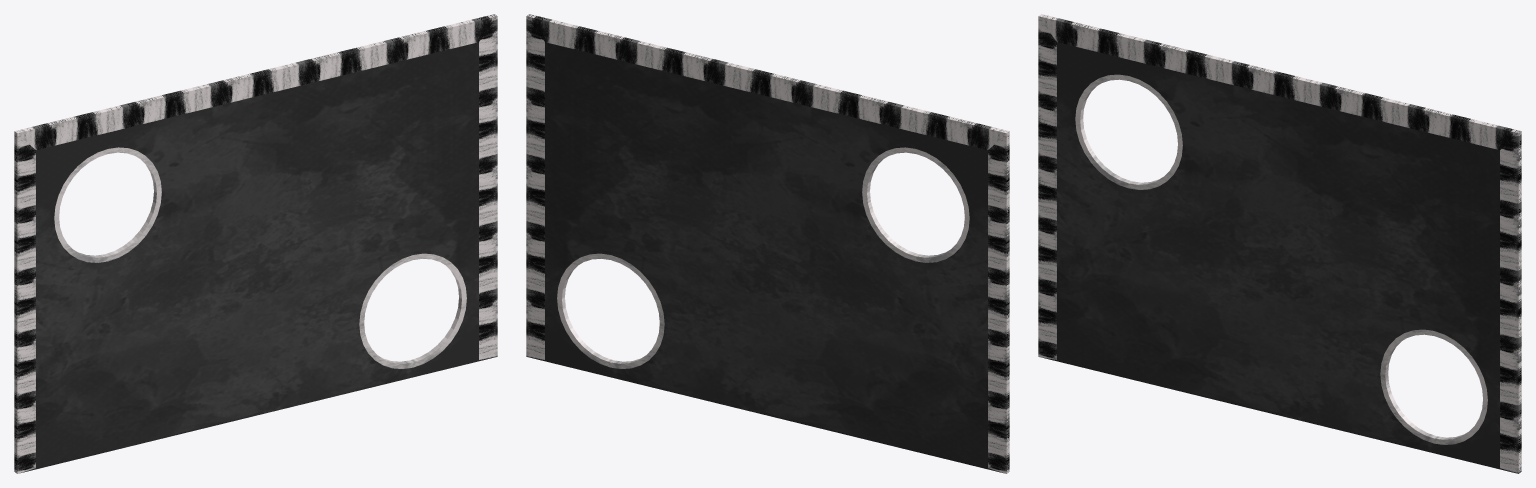
File: Torwand.fbx
The picture shows the model from 3 angles, left to right: view 1: azimuth 30°, elevation 25°; view 2: azimuth 150°, elevation 25°; view 3: azimuth 330°, elevation 25°; orthographic projection.
Visible parts, largest first — view 1: Plane; view 2: Plane; view 3: Plane.
Part boxes in pixels (bbox=[...]): Plane: bbox=[14, 14, 497, 473]; Plane: bbox=[526, 14, 1009, 473]; Plane: bbox=[1038, 14, 1521, 473].
Bounding box in the file's own units: 540 × 366 × 5.8.
